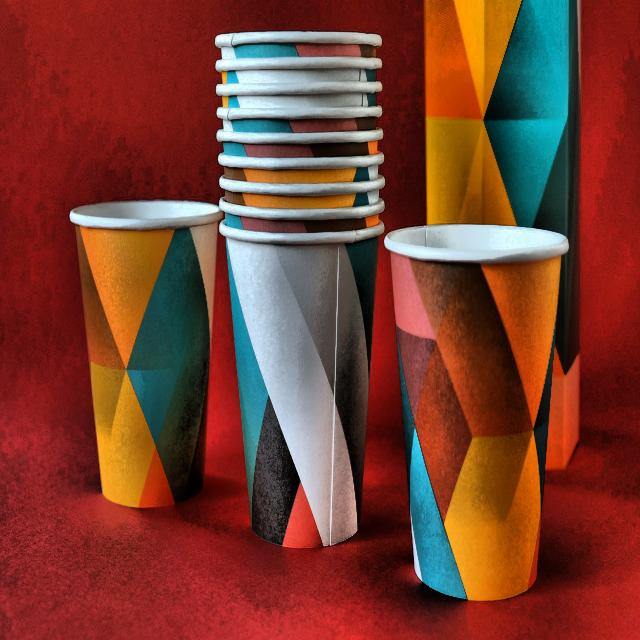Cup: (209, 19, 380, 562), (388, 201, 568, 616), (62, 192, 225, 515)
